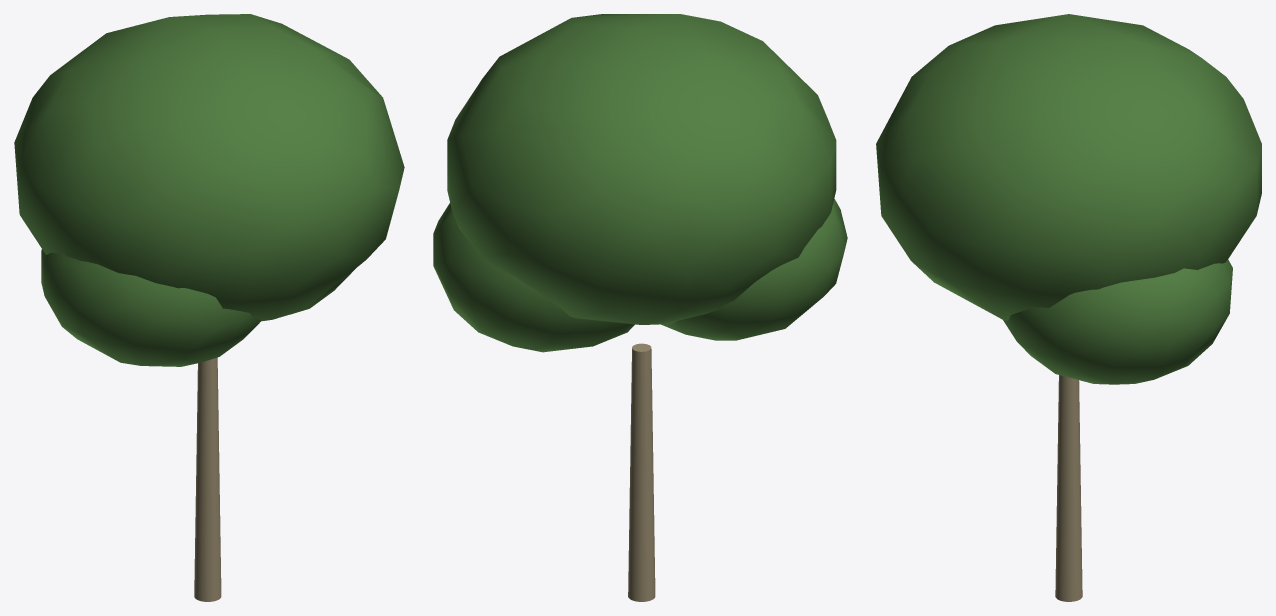
The model's file is e01-london-plane.lod1.glb.
3 views of the same model, side by side, from view 1: azimuth 30°, elevation 25°; view 2: azimuth 150°, elevation 25°; view 3: azimuth 270°, elevation 25° (orthographic).
Parts seen in each view (by area): view 1: part1, part3, part0; view 2: part1, part2, part3, part0; view 3: part1, part2, part0.
Boxes of the visible parts, x1,y1,x2,y2 form: part1: [14, 14, 404, 321]; part3: [41, 249, 260, 366]; part0: [194, 357, 221, 601]; part1: [447, 14, 836, 324]; part2: [433, 203, 634, 352]; part3: [661, 199, 847, 340]; part0: [628, 343, 655, 601]; part1: [876, 14, 1261, 320]; part2: [1003, 259, 1232, 384]; part0: [1055, 375, 1082, 601].
Size of the model in its own units: 12998 by 20488 by 12773.
